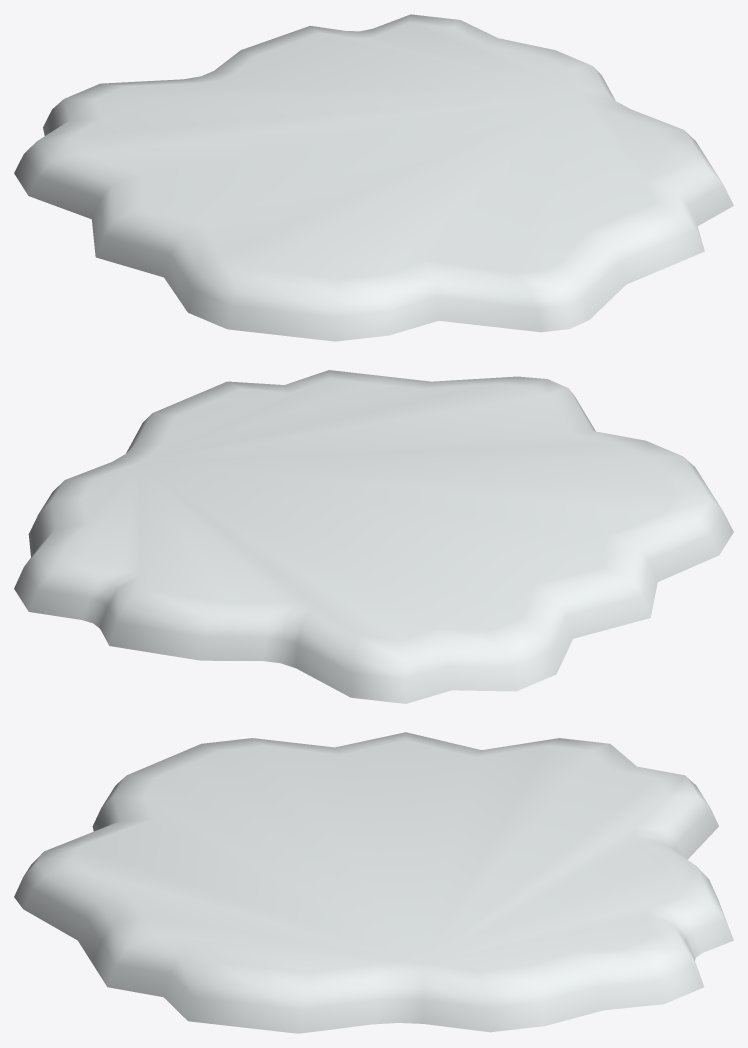
Rendered from Floor (Snow 3).fbx.
The picture shows the model from 3 angles, top to bottom: view 1: azimuth 30°, elevation 25°; view 2: azimuth 150°, elevation 25°; view 3: azimuth 270°, elevation 25°; orthographic projection. The views are drawn at different scales.
Visible parts, largest first — view 1: Floor (Snow 3); view 2: Floor (Snow 3); view 3: Floor (Snow 3).
Part boxes in pixels (box(x1,y1,x2,y2)): Floor (Snow 3): box(14, 14, 733, 341); Floor (Snow 3): box(14, 370, 733, 703); Floor (Snow 3): box(14, 732, 733, 1033).
Bounding box in the file's own units: 3492 × 228 × 3831.
